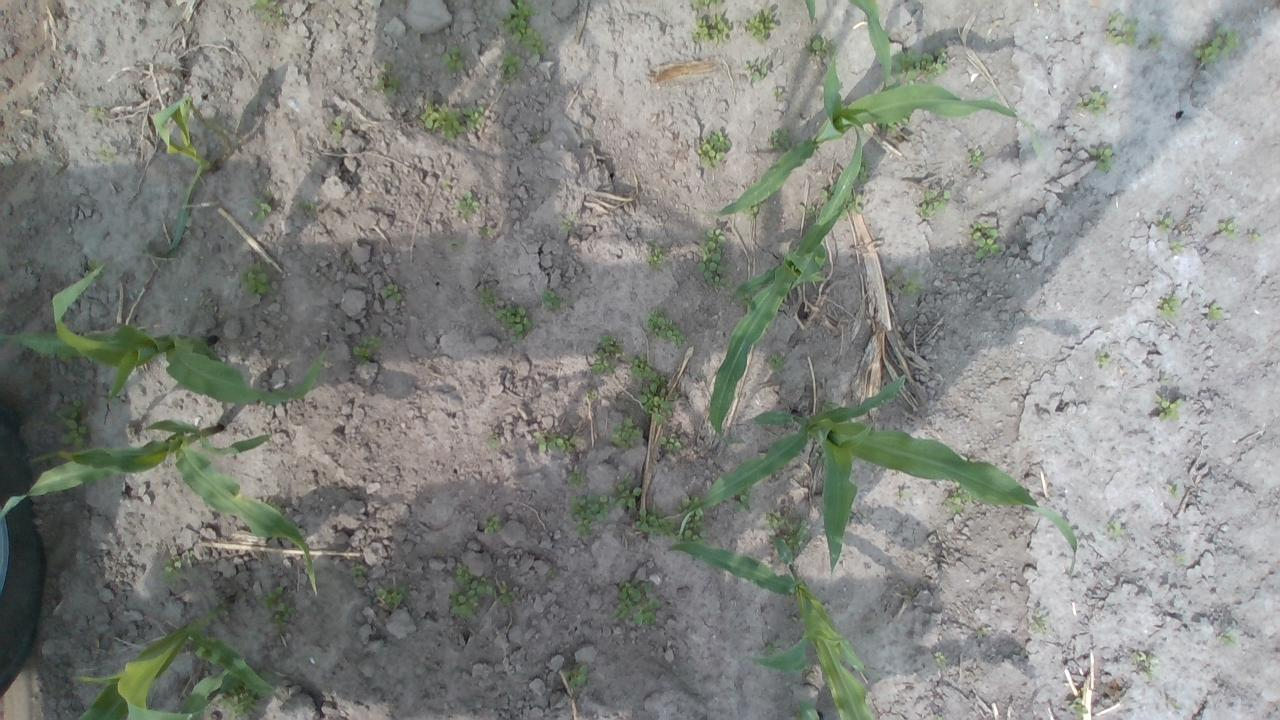Maize: (672, 374, 1076, 573), (0, 419, 320, 594), (706, 124, 864, 440), (710, 57, 1020, 217), (0, 264, 327, 404), (670, 533, 874, 720), (71, 608, 288, 720), (152, 96, 213, 262), (802, 0, 892, 90)
Weeds: (419, 94, 486, 142), (610, 578, 664, 626), (763, 512, 811, 566), (499, 0, 544, 54), (449, 568, 493, 619), (696, 228, 732, 288), (894, 47, 944, 85), (1193, 25, 1240, 65), (58, 398, 92, 450), (570, 493, 610, 536), (639, 375, 673, 425), (494, 302, 533, 344), (644, 310, 688, 346), (674, 495, 704, 546), (238, 262, 280, 298), (218, 684, 259, 720), (1105, 8, 1141, 48), (262, 586, 297, 626), (696, 130, 730, 169), (590, 335, 624, 374), (690, 14, 730, 46), (969, 222, 1000, 260), (638, 505, 672, 538), (742, 7, 774, 42), (946, 479, 978, 513), (917, 188, 951, 219), (608, 479, 641, 509), (610, 417, 641, 448), (373, 63, 400, 97), (374, 583, 410, 608), (534, 432, 578, 452), (1134, 650, 1161, 682), (564, 662, 593, 690), (894, 267, 924, 294), (628, 354, 658, 380), (440, 46, 466, 74), (352, 336, 380, 362), (1086, 146, 1114, 172), (255, 0, 285, 24), (454, 190, 478, 220), (804, 34, 836, 56), (744, 54, 770, 81), (1156, 396, 1182, 423), (1075, 91, 1106, 113), (1157, 294, 1180, 320), (501, 52, 525, 76), (768, 126, 791, 150), (734, 486, 754, 513), (838, 188, 857, 214), (736, 286, 756, 310), (252, 196, 272, 218), (1217, 220, 1239, 240), (162, 556, 182, 578), (89, 260, 113, 278), (382, 284, 404, 303), (854, 158, 870, 184), (1070, 697, 1088, 720), (540, 290, 560, 310), (876, 116, 909, 128), (1220, 629, 1240, 648), (484, 515, 503, 535), (1103, 520, 1124, 538), (660, 436, 680, 454), (478, 288, 497, 306), (567, 469, 587, 486), (1148, 29, 1164, 50), (86, 104, 104, 122), (328, 116, 346, 134), (966, 150, 984, 168), (768, 352, 784, 372), (646, 246, 662, 265), (1208, 302, 1224, 320), (743, 201, 759, 219), (689, 0, 720, 9), (767, 640, 784, 656), (256, 670, 273, 686), (1167, 240, 1186, 254), (349, 562, 368, 576), (183, 215, 194, 239), (558, 217, 574, 233), (1032, 618, 1047, 634), (498, 589, 512, 606), (821, 185, 836, 200), (804, 202, 818, 218), (1095, 352, 1110, 366), (1156, 216, 1172, 229), (958, 453, 978, 463), (99, 147, 114, 160), (1166, 485, 1180, 497), (546, 567, 561, 578), (770, 88, 784, 99), (448, 238, 463, 248), (586, 389, 599, 400), (934, 652, 945, 664), (478, 227, 492, 236), (487, 437, 498, 448), (187, 548, 195, 561), (302, 201, 314, 209), (1176, 556, 1184, 560)
